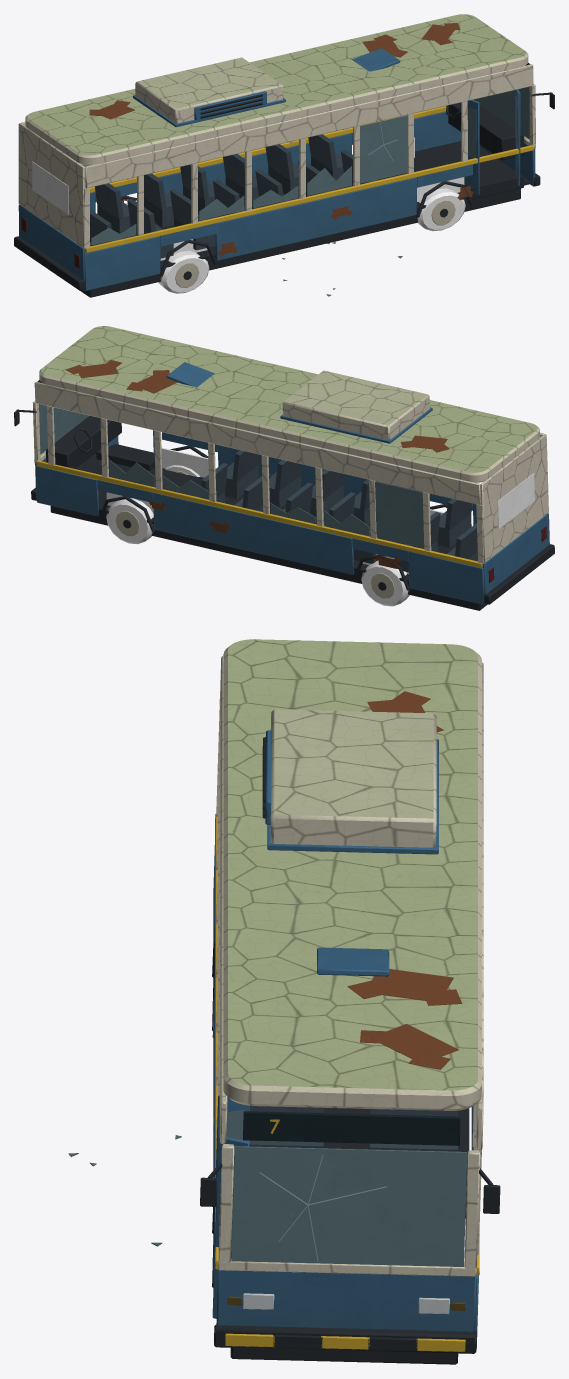
Rendered from bus_wreck.glb.
3 renders of one model, top to bottom at view 1: azimuth 30°, elevation 25°; view 2: azimuth 150°, elevation 25°; view 3: azimuth 270°, elevation 25°, orthographic. The views are drawn at different scales.
Parts seen in each view (by area): view 1: bus_wreck; view 2: bus_wreck; view 3: bus_wreck.
Boxes of the visible parts, box(x1,y1,x2,y2) form: bus_wreck: box(14, 14, 554, 297); bus_wreck: box(14, 326, 554, 610); bus_wreck: box(68, 639, 500, 1364).
Size of the model in its own units: 10.51 by 3.76 by 4.18.
21 materials, 21 textured.
